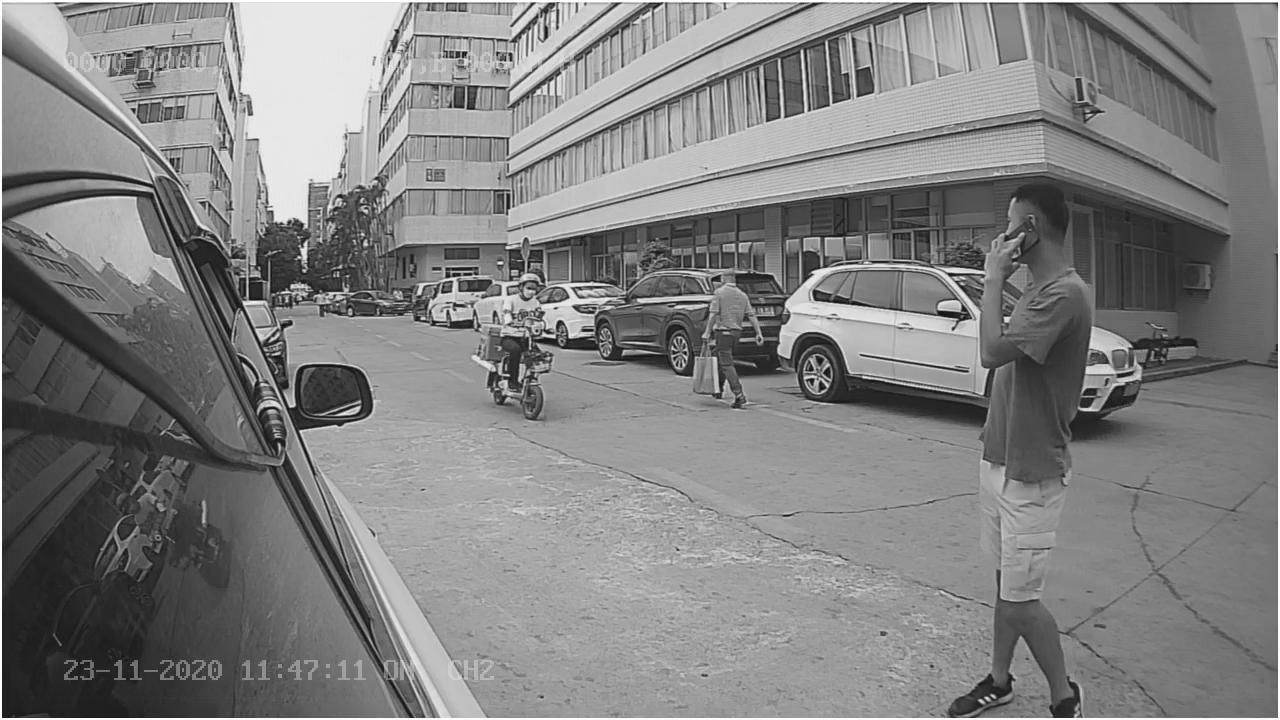person: (937, 176, 1097, 720)
